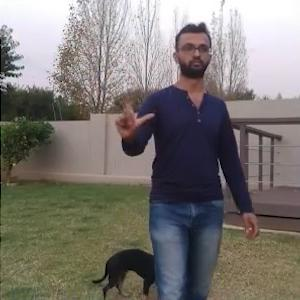land_hand: (112, 85, 154, 136)
